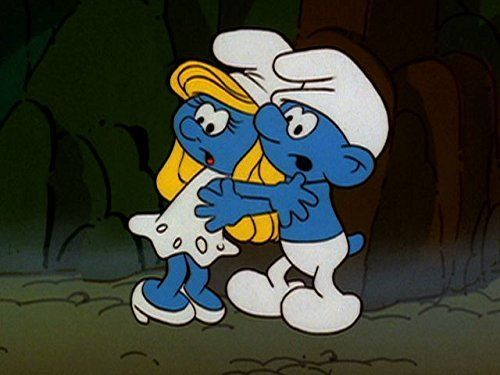smurf: (127, 23, 292, 328), (223, 44, 391, 336)
